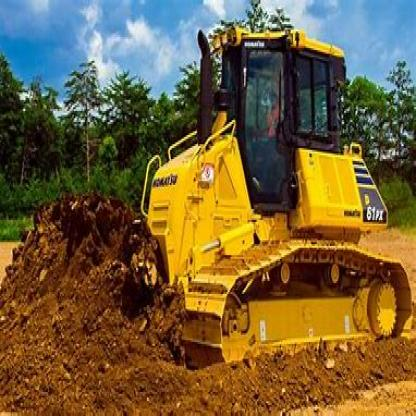bull_dozer/loader/grader: (102, 8, 414, 390)
